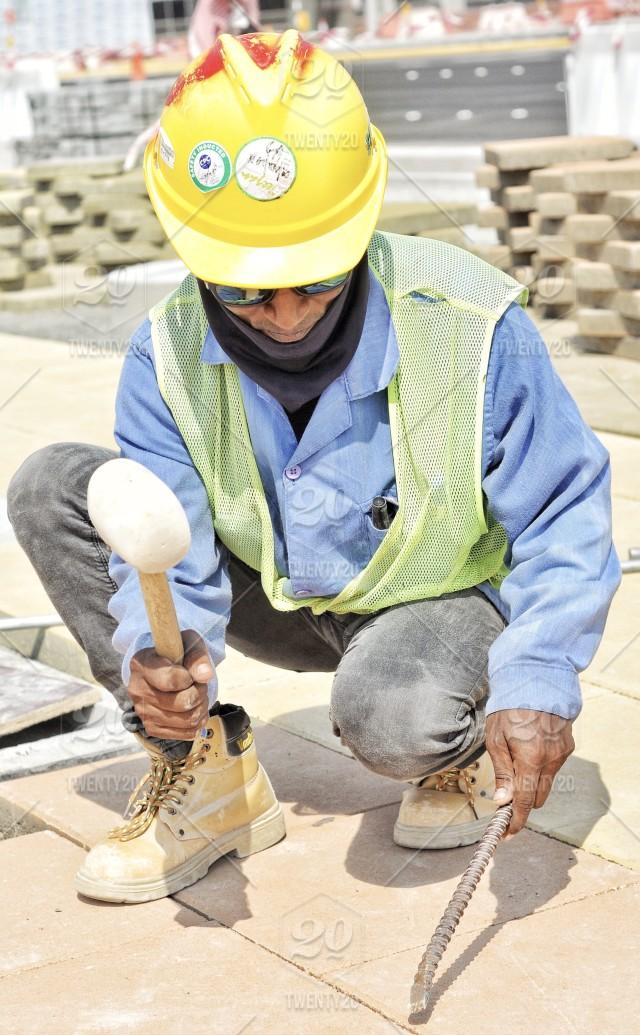helmet: (139, 27, 392, 299)
